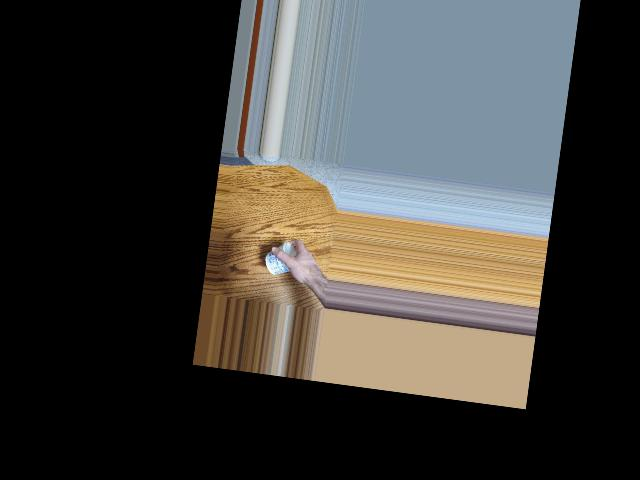cotage: (264, 238, 297, 274)
